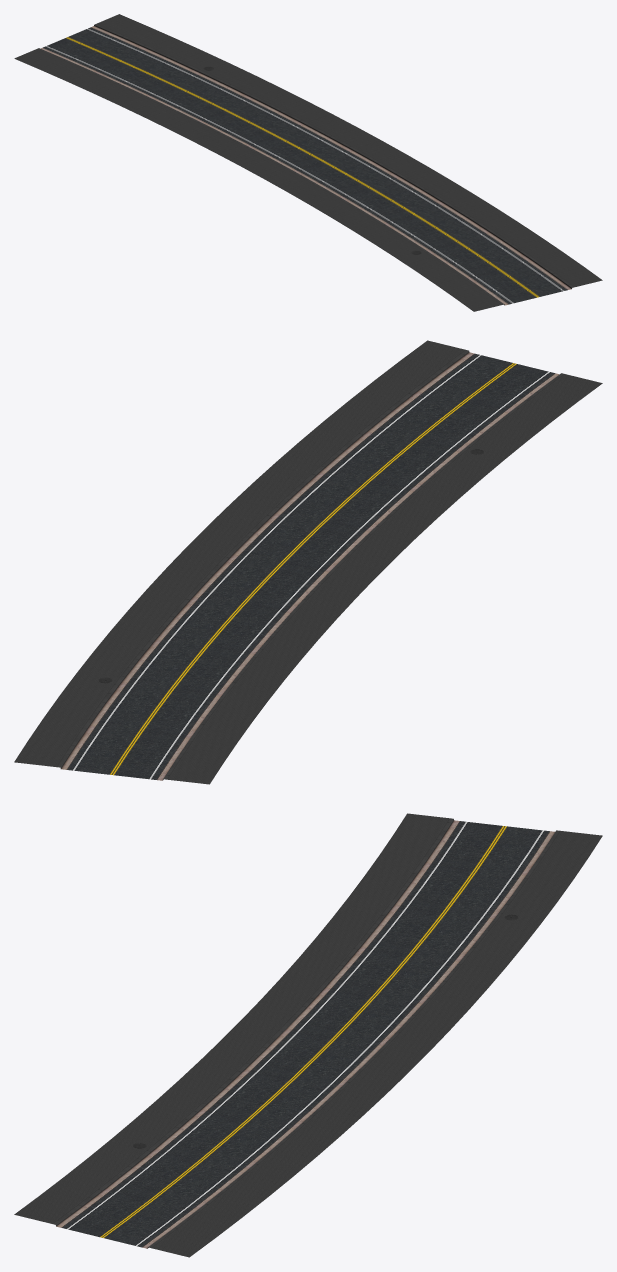
File: or_city_road_US_cont_marking_15left.fbx
3 renders of one model, top to bottom at view 1: azimuth 30°, elevation 25°; view 2: azimuth 150°, elevation 25°; view 3: azimuth 330°, elevation 25°, orthographic. The views are drawn at different scales.
Visible parts, largest first — view 1: obj0; view 2: obj0; view 3: obj0.
Part boxes in pixels (<box>): obj0: <box>14,14,602,311</box>; obj0: <box>14,340,602,784</box>; obj0: <box>14,813,602,1257</box>.
Bounding box in the file's own units: 48.55 × 0.254 × 154.
